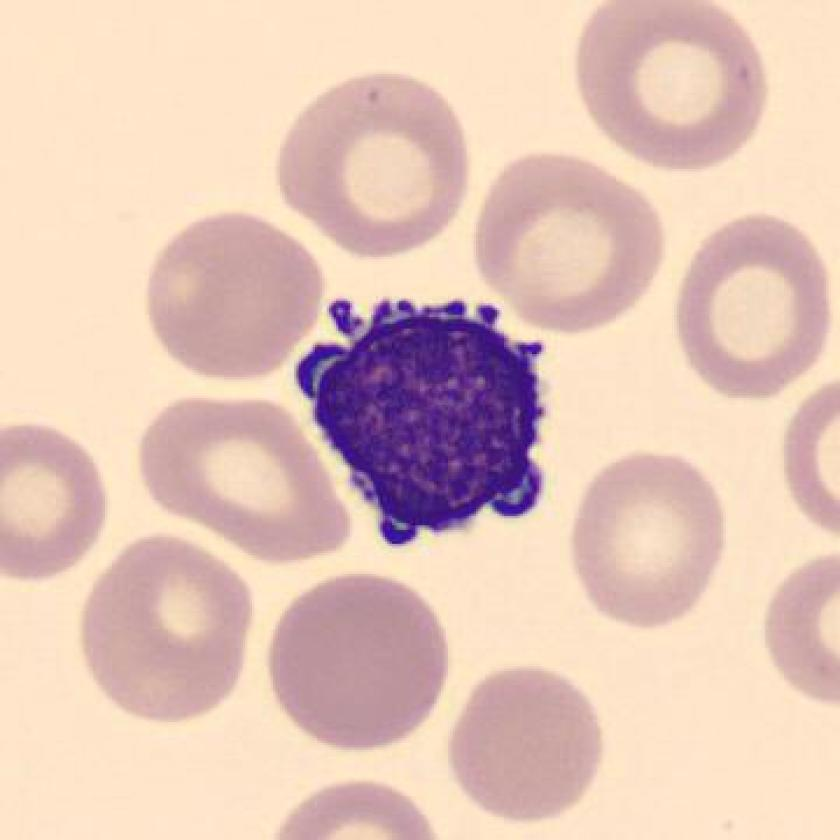lymphocyte: (279, 286, 570, 552)
